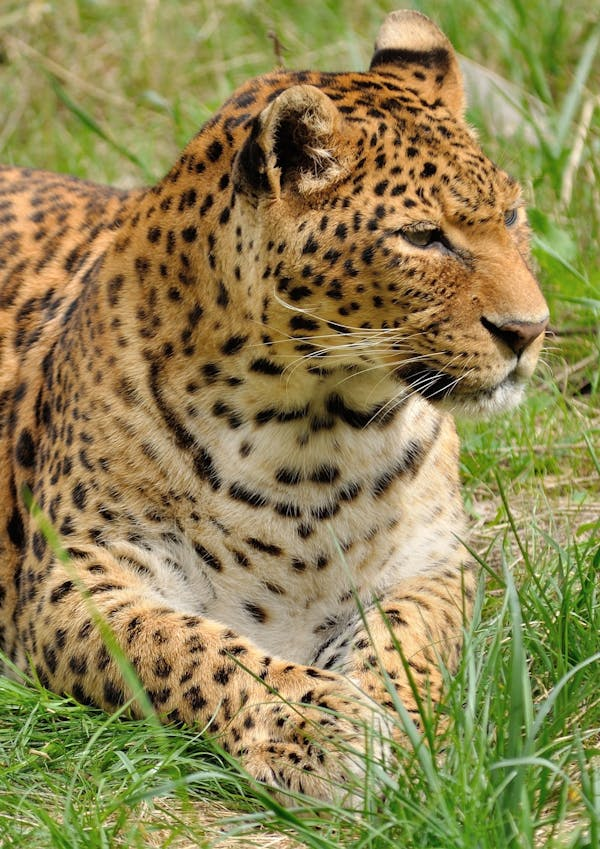Leopard: (1, 7, 555, 808)
